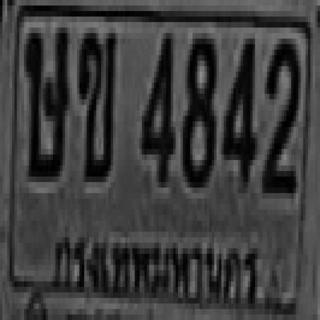A02: (77, 27, 116, 176)
A39: (23, 22, 69, 176)
N02: (261, 36, 297, 190)
N04: (140, 28, 173, 182), (221, 33, 253, 182)
N08: (180, 33, 214, 182)
P04: (51, 220, 264, 317)
